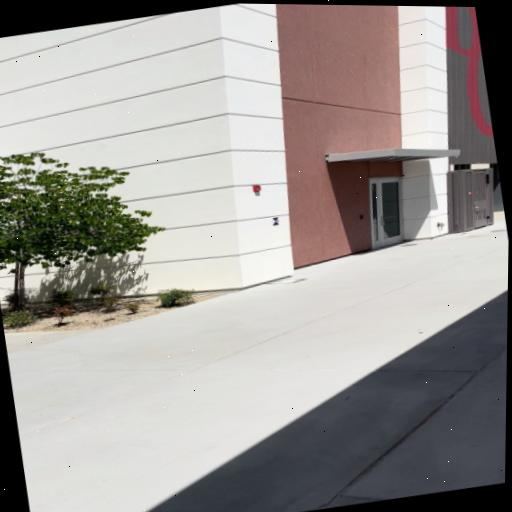target6: (271, 217, 279, 225)
